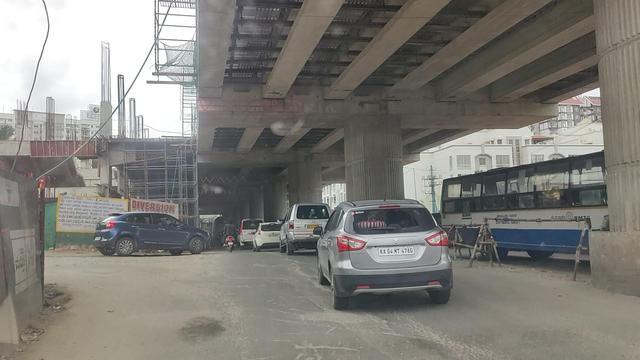LMV: (324, 199, 452, 303), (283, 203, 321, 244), (223, 218, 239, 250)
RoadDamages: (302, 307, 439, 360), (287, 259, 321, 297)
